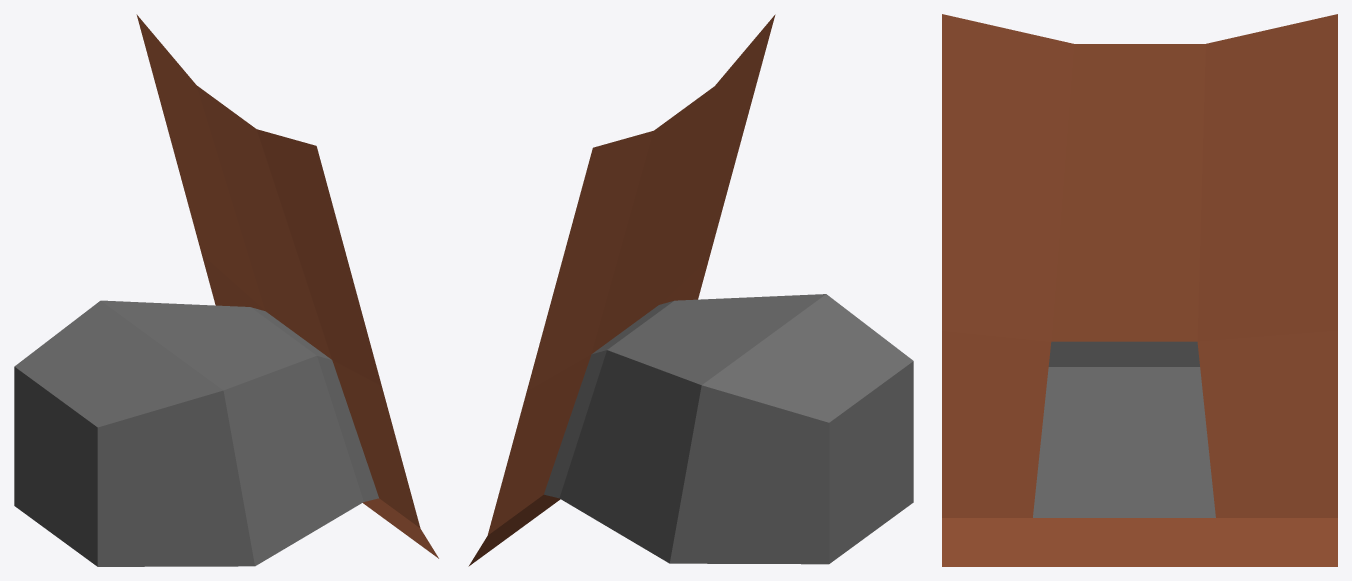
Rendered from cave2.fbx.
3 renders of one model, left to right at view 1: azimuth 30°, elevation 25°; view 2: azimuth 150°, elevation 25°; view 3: azimuth 270°, elevation 25°, orthographic. The views are drawn at different scales.
Parts seen in each view (by area): view 1: cave2; view 2: cave2; view 3: cave2.
Part boxes in pixels (box(x1,y1,x2,y2)): cave2: box(14, 14, 438, 566); cave2: box(468, 14, 913, 566); cave2: box(942, 14, 1337, 566).
Bounding box in the file's own units: 5.78 × 6.01 × 8.16.
